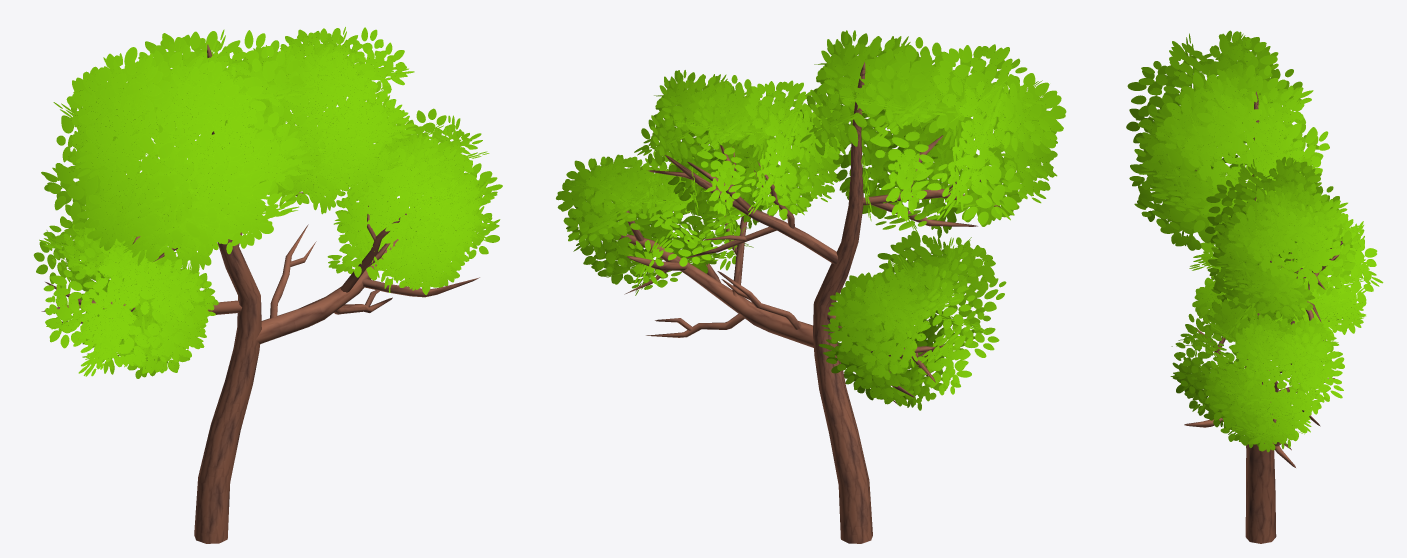
Rendered from tree-3.glb.
The picture shows the model from 3 angles, left to right: view 1: azimuth 30°, elevation 25°; view 2: azimuth 150°, elevation 25°; view 3: azimuth 270°, elevation 25°; orthographic projection. The views are drawn at different scales.
Parts seen in each view (by area): view 1: NormalTree_3; view 2: NormalTree_3; view 3: NormalTree_3.
Part boxes in pixels (bbox=[...]): NormalTree_3: bbox=[33, 27, 502, 543]; NormalTree_3: bbox=[556, 30, 1066, 543]; NormalTree_3: bbox=[1126, 30, 1383, 543].
Size of the model in its own units: 5.04 by 5.28 by 2.88.
2 materials, 2 textured.
